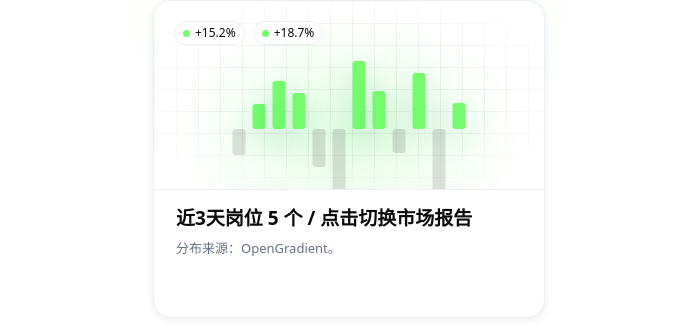
Test: IntelligencePanel › falls back to the legacy narrative when living_report is absent
The width and height of the screenshot is (700, 336).
Click the element named "打开猎场控制台": {"x": 349, "y": 159} [153,0,545,318]
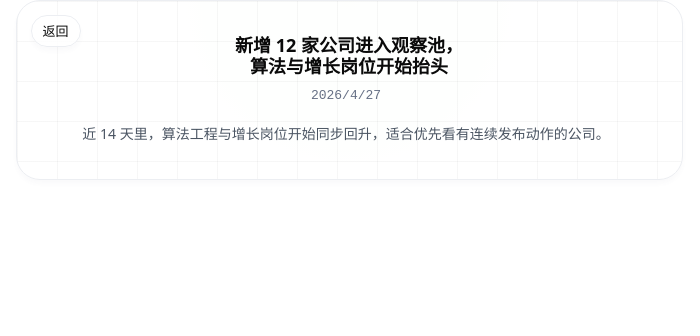
Now the text "近 14 天里，算法工程与增长岗位开始同步回升，适合优先看有连续发布动作的公司。" is shown, box [82,122,610,145]
